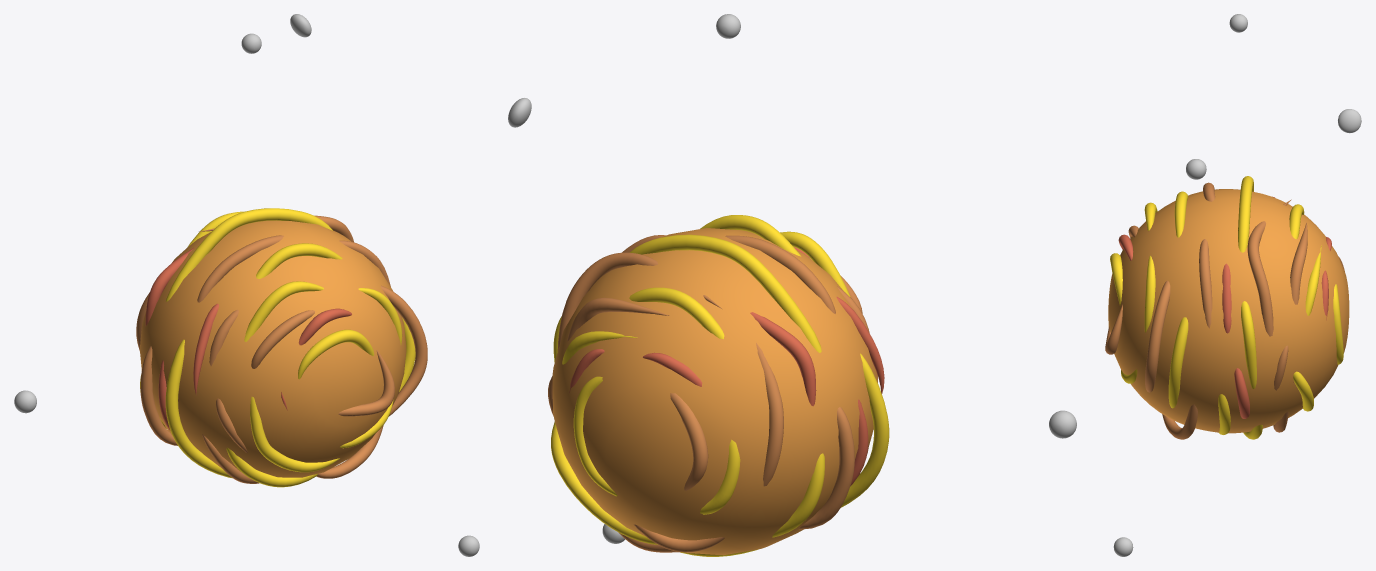
File: jupiter.fbx
3 views of the same model, side by side, from view 1: azimuth 30°, elevation 25°; view 2: azimuth 150°, elevation 25°; view 3: azimuth 270°, elevation 25° (orthographic). The views are drawn at different scales.
Visible parts, largest first — view 1: jupiter; view 2: jupiter; view 3: jupiter.
Part boxes in pixels (box(x1,y1,x2,y2)): jupiter: box(14, 14, 479, 556); jupiter: box(508, 14, 1076, 556); jupiter: box(1105, 14, 1361, 556).
Size of the model in its own units: 10111 by 11725 by 5773.
